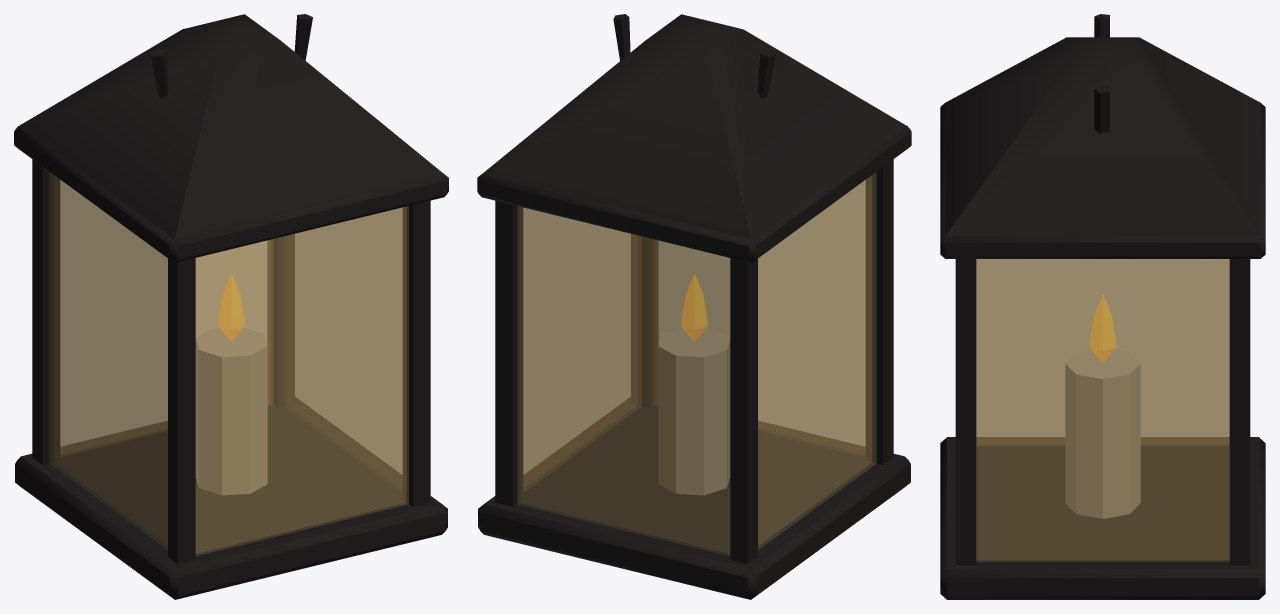
File: laterne.glb
The picture shows the model from 3 angles, left to right: view 1: azimuth 30°, elevation 25°; view 2: azimuth 150°, elevation 25°; view 3: azimuth 270°, elevation 25°; orthographic projection.
Visible parts, largest first — view 1: laterne; view 2: laterne; view 3: laterne.
Part boxes in pixels (<box>): laterne: <box>14,14,448,599</box>; laterne: <box>477,14,911,599</box>; laterne: <box>940,14,1265,599</box>.
Size of the model in its own units: 0.19 by 0.315 by 0.19.
